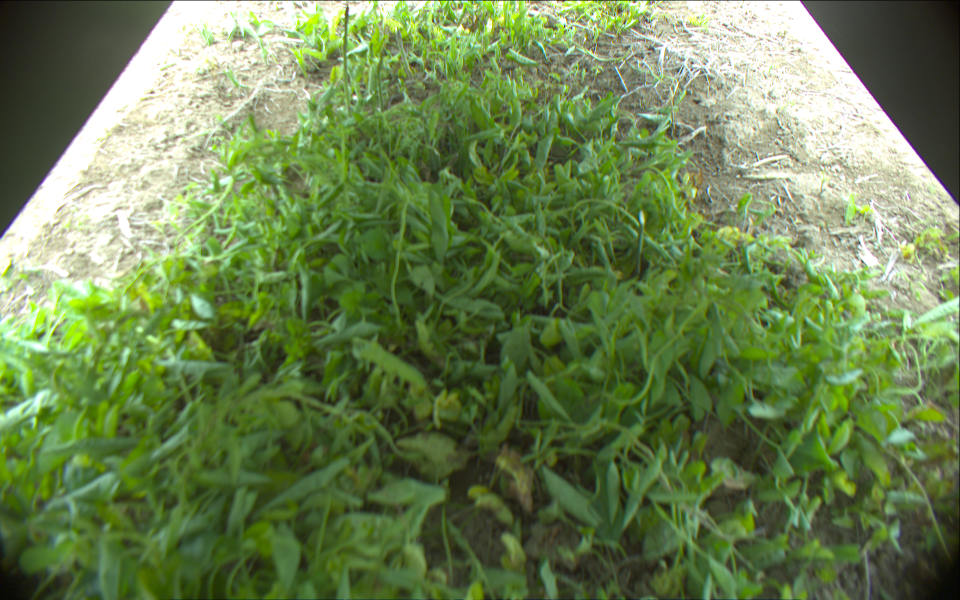aspa: (396, 28, 412, 80), (347, 9, 349, 115)
